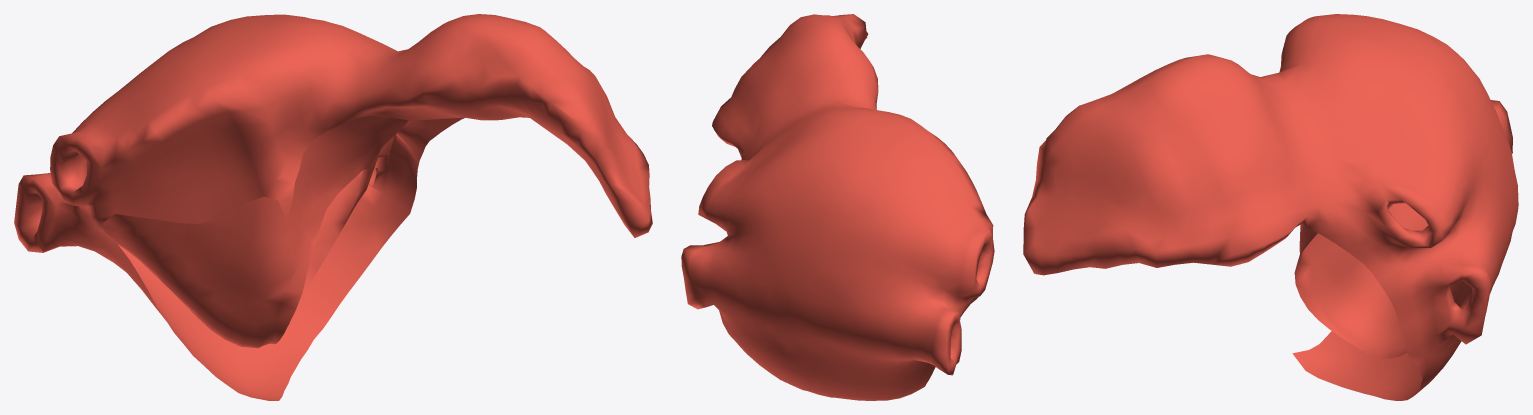
Rendered from leftatrium.glb.
3 views of the same model, side by side, from view 1: azimuth 30°, elevation 25°; view 2: azimuth 150°, elevation 25°; view 3: azimuth 270°, elevation 25° (orthographic). The views are drawn at different scales.
Parts seen in each view (by area): view 1: Left atrium.001; view 2: Left atrium.001; view 3: Left atrium.001.
Part boxes in pixels (bbox=[...]): Left atrium.001: bbox=[14, 14, 652, 400]; Left atrium.001: bbox=[681, 14, 994, 400]; Left atrium.001: bbox=[1023, 14, 1518, 400].
Bounding box in the file's own units: 2.73 × 2.31 × 2.68.
